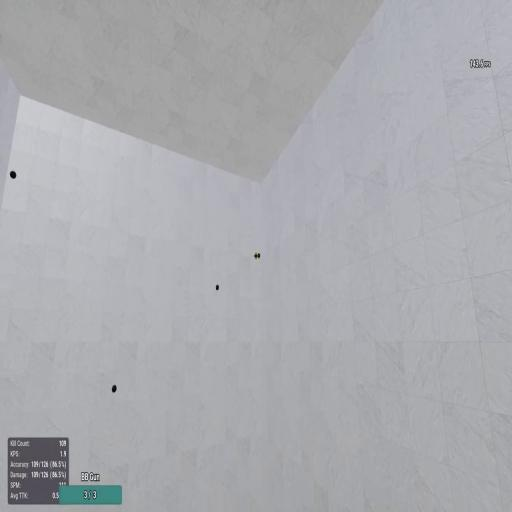Crosshair: (254, 251, 258, 260)
Target: (9, 170, 17, 179), (111, 384, 117, 393), (216, 283, 220, 291), (257, 252, 261, 258)
